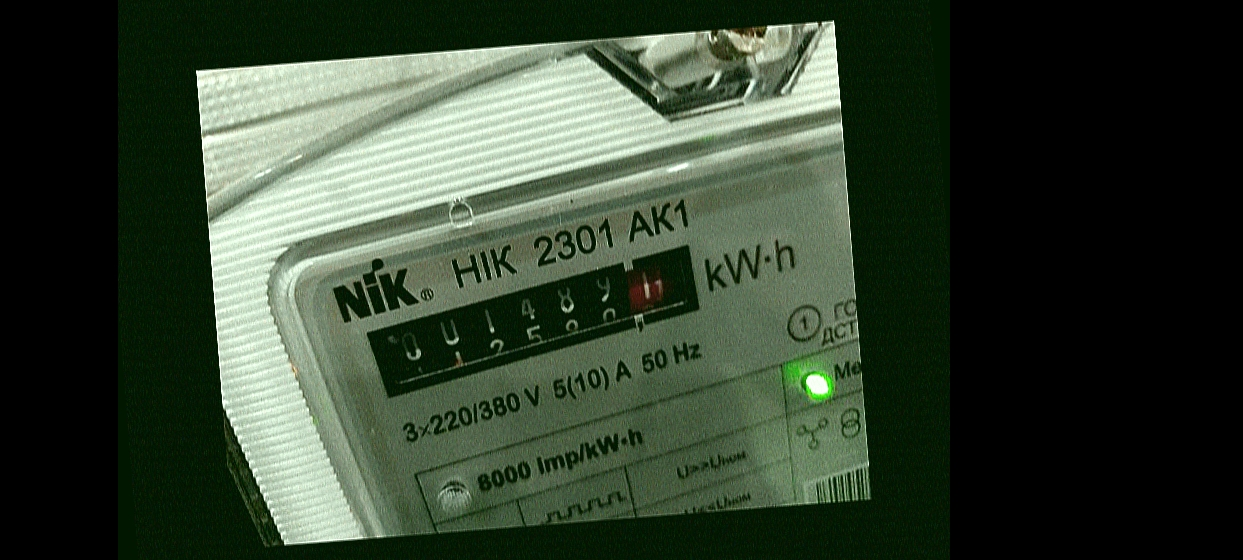0: (435, 310, 463, 348), (398, 327, 425, 364)
1: (635, 263, 657, 302), (478, 303, 501, 335)
4: (515, 290, 540, 322)
8: (555, 279, 578, 316)
9: (593, 270, 615, 303)
screen: (349, 231, 735, 411)
